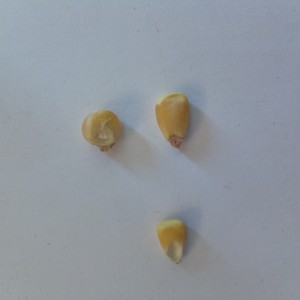maiz: (152, 92, 198, 154), (78, 106, 127, 154), (151, 214, 192, 267)
